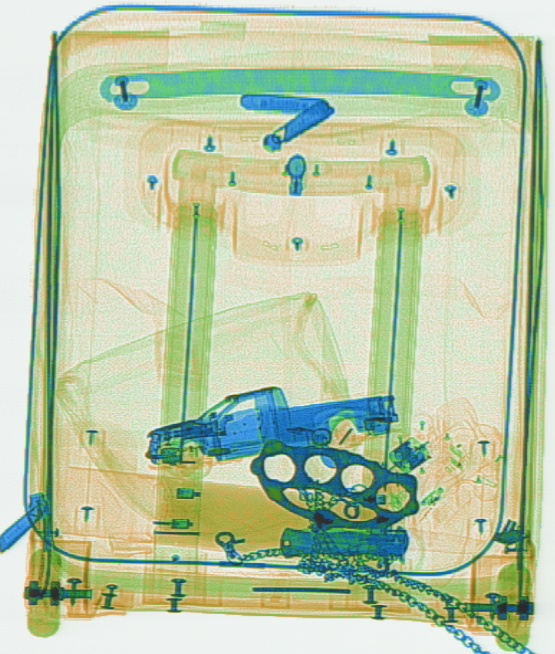knife: (278, 523, 413, 561)
